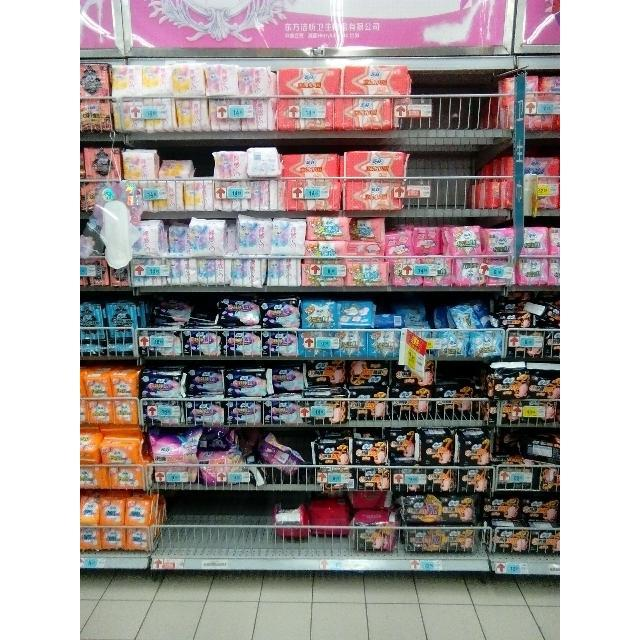empty: (166, 492, 274, 558), (411, 72, 497, 128), (410, 152, 484, 208)
front: (274, 536, 352, 558)
